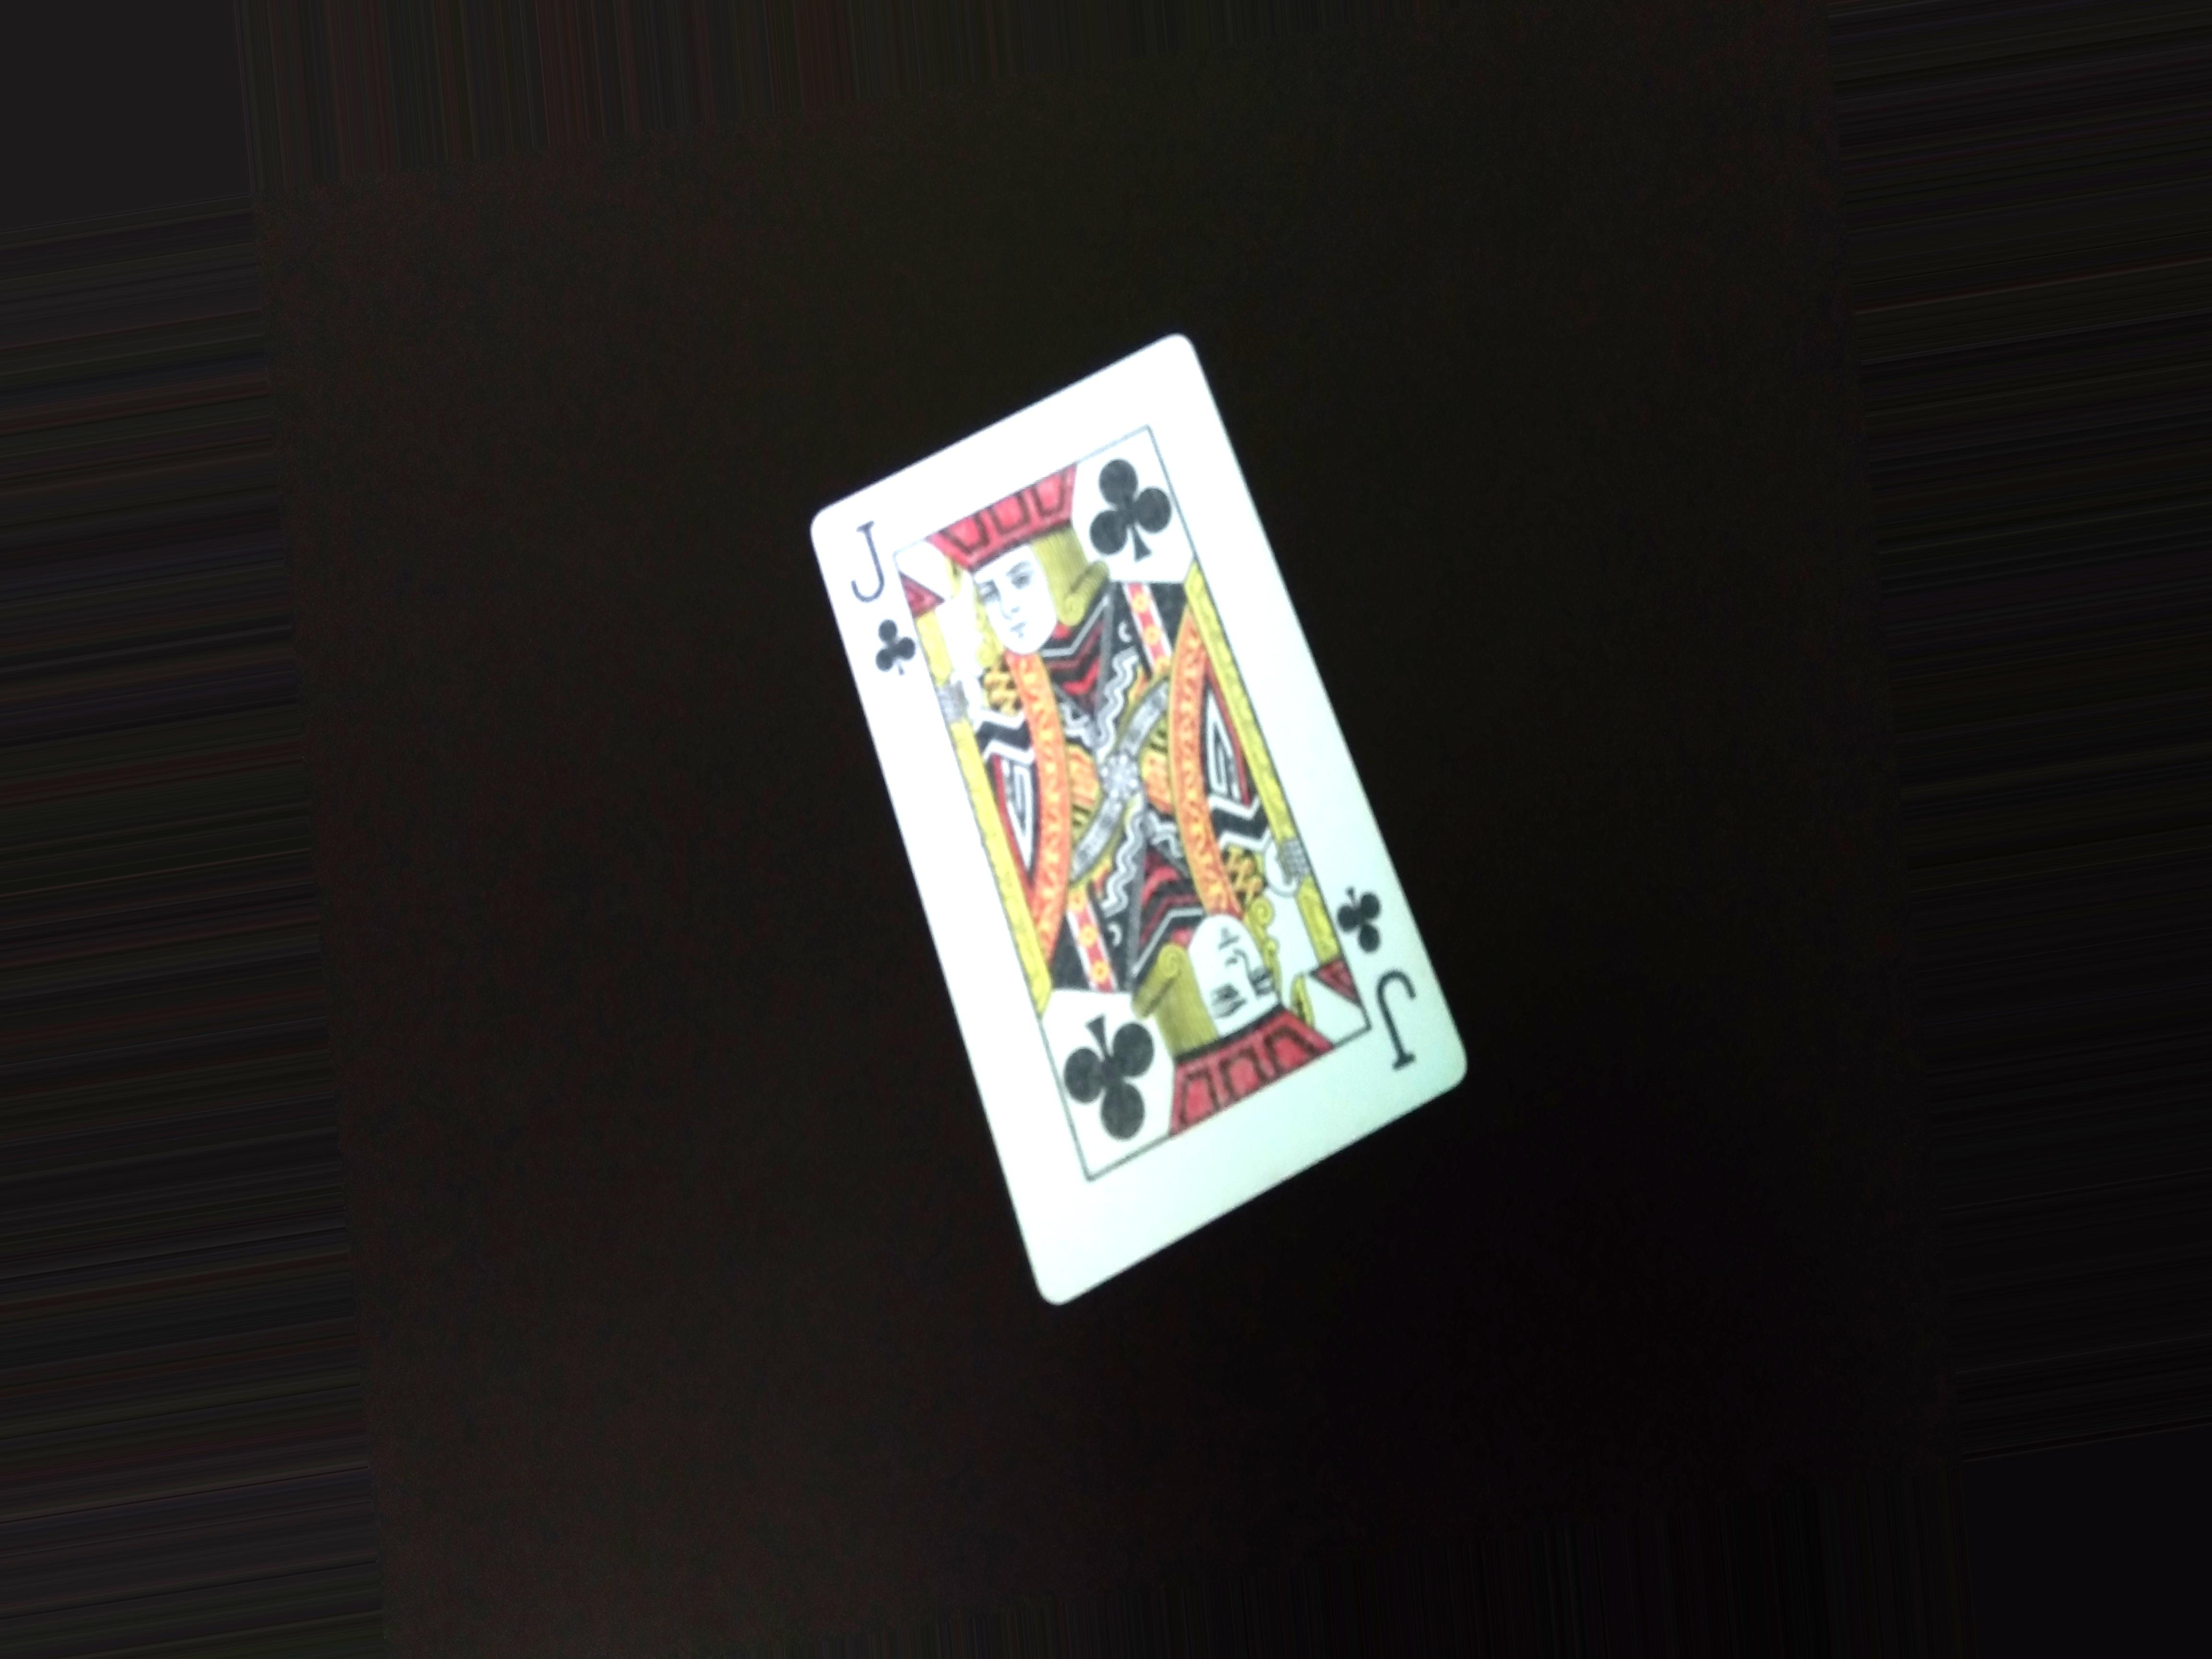JC: (838, 509, 911, 690)
